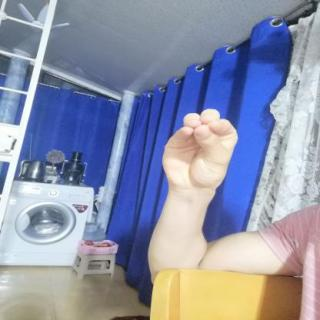HA: (151, 102, 251, 198)
